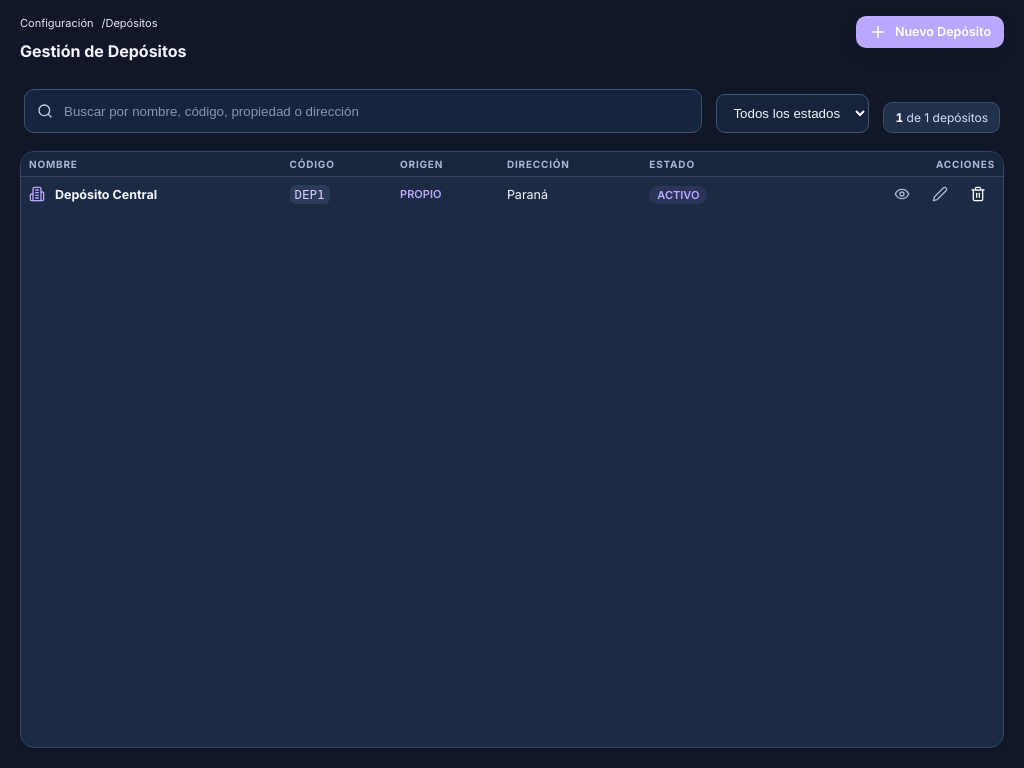
Test: Depósitos › filtra depósitos sin modificar los registros
Check: the text "Depósito Central" is shown, box [55,187,157,202]
Step 1. Type "inexistente" into the field named "Buscar depósitos" → point(376, 111), box [62,90,689,132]
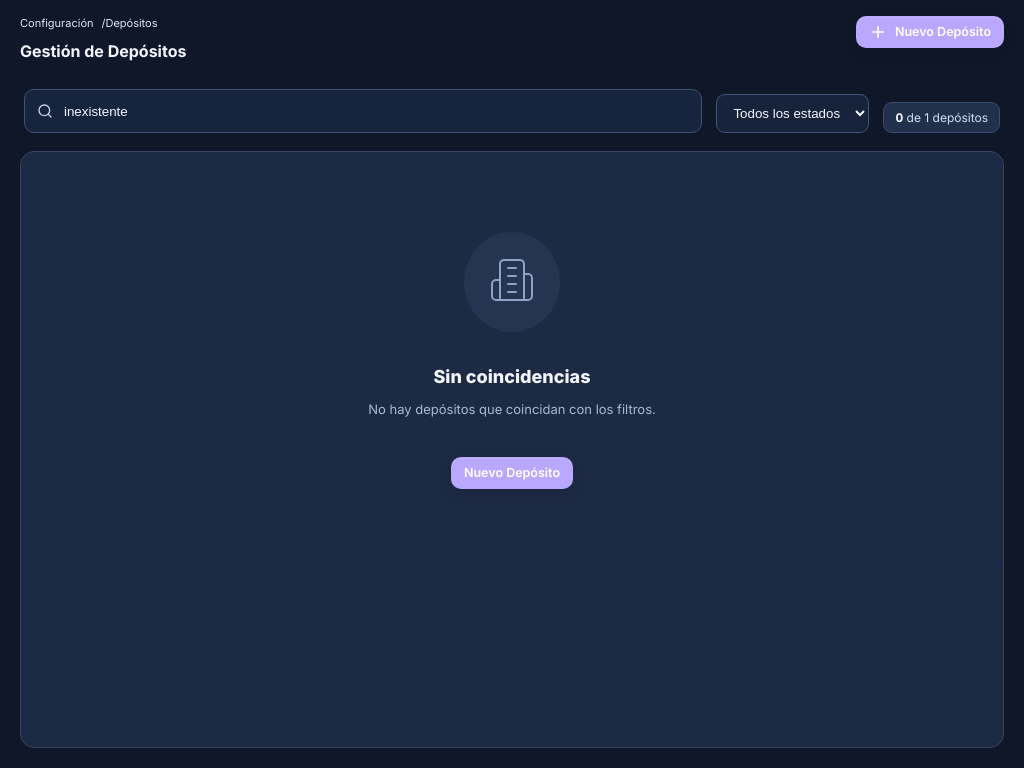
Check: the heading "Sin coincidencias" is shown, box [434,366,590,387]
